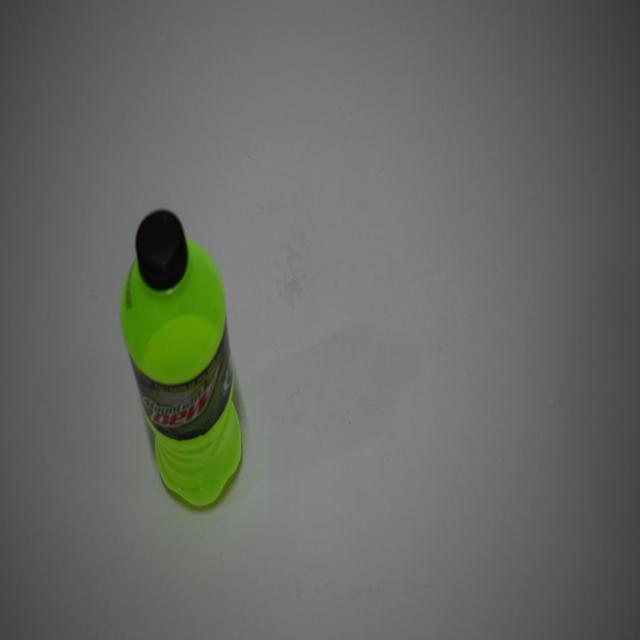bottle: (121, 208, 243, 511)
